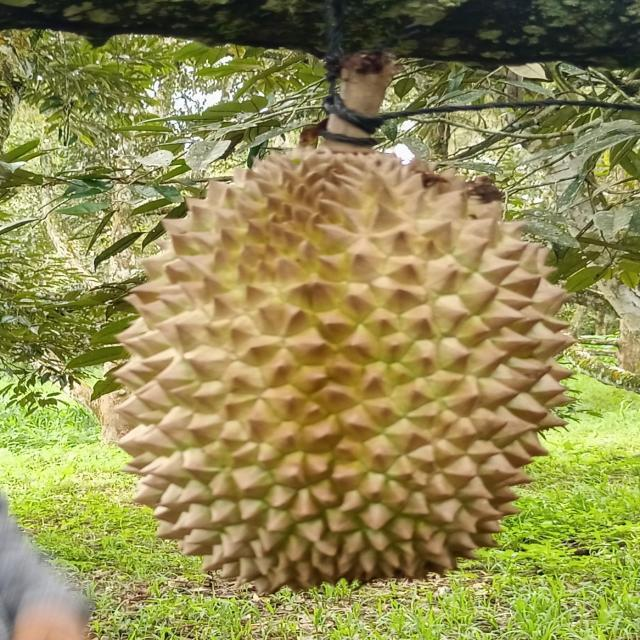mature: (99, 151, 577, 592)
